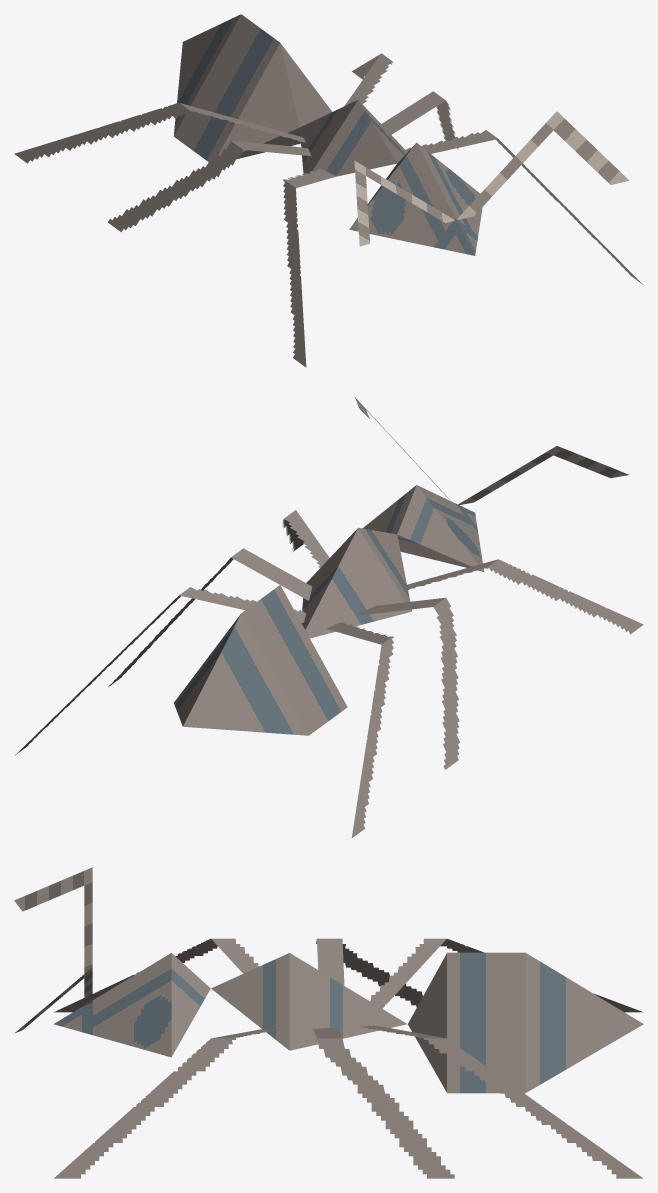
Rendered from 04eb_Ant.glb.
3 views of the same model, one above another, from view 1: azimuth 30°, elevation 25°; view 2: azimuth 150°, elevation 25°; view 3: azimuth 270°, elevation 25° (orthographic).
Visible parts, largest first — view 1: part_0; view 2: part_0; view 3: part_0.
Part boxes in pixels (left/top/right/bottom): part_0: left=14, top=14, right=642, bottom=367; part_0: left=14, top=396, right=643, bottom=837; part_0: left=14, top=867, right=643, bottom=1178.
Bounding box in the file's own units: 0.005 × 0.0025 × 0.008.
1 material, 1 textured.
